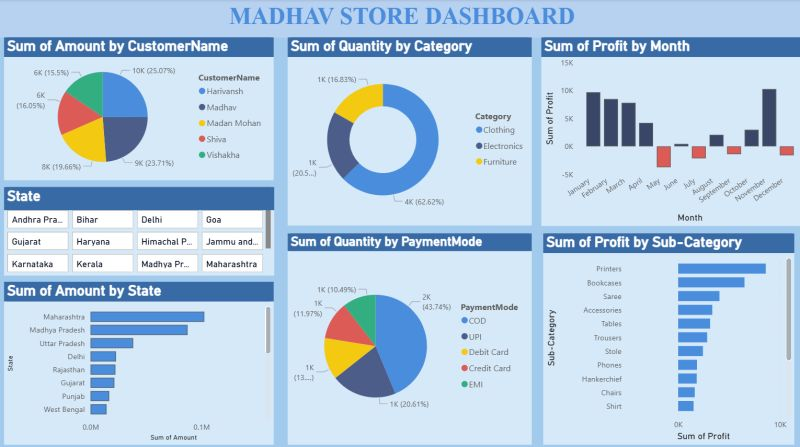

The dashboard page shown, as its layout file describes it:
{"tool":"powerbi","page":{"name":"Page 1","canvas":[1280,720],"ordinal":0},"visuals":[{"type":"textbox","box":[0,0,1280,60.9],"z":0},{"type":"pieChart","fields":{"Y":["Sum(Details.Amount)"],"Category":["Orders.CustomerName"]},"box":[7.1,60.3,429.2,227],"z":1},{"type":"donutChart","fields":{"Y":["Sum(Details.Quantity)"],"Category":["Details.Category"]},"box":[458.6,60.5,388,299.3],"z":2},{"type":"barChart","fields":{"Category":["Orders.State"],"Y":["Sum(Details.Amount)"]},"box":[7.1,448.7,429.2,258.9],"z":3},{"type":"columnChart","fields":{"Category":["Orders.Order Date.Variation.Date Hierarchy.Month"],"Y":["Sum(Details.Profit)"]},"box":[861.9,60.4,418.1,299.7],"z":4},{"type":"pieChart","fields":{"Category":["Details.PaymentMode"],"Y":["Sum(Details.Quantity)"]},"box":[458.6,371.9,388,335.6],"z":5},{"type":"clusteredBarChart","fields":{"Y":["Sum(Details.Profit)"],"Category":["Details.Sub-Category"]},"box":[864.2,371.7,399.6,335.7],"z":6},{"type":"advancedSlicerVisual","fields":{"Values":["Orders.State"]},"box":[7.1,298.3,429.4,141.1],"z":7}]}

Visuals, with their boxes in screenshot pixels (x1, y1, x2, y2), scaled from the page's 1280x720 canvas onto the 800x447 screenshot:
textbox: 0 0 799 38
pieChart - Sum(Details.Amount) x Orders.CustomerName: 4 37 273 178
donutChart - Sum(Details.Quantity) x Details.Category: 287 38 529 223
barChart - Orders.State x Sum(Details.Amount): 4 279 273 439
columnChart - Orders.Order Date.Variation.Date Hierarchy.Month x Sum(Details.Profit): 539 37 799 224
pieChart - Details.PaymentMode x Sum(Details.Quantity): 287 231 529 439
clusteredBarChart - Sum(Details.Profit) x Details.Sub-Category: 540 231 790 439
advancedSlicerVisual - Orders.State: 4 185 273 273
